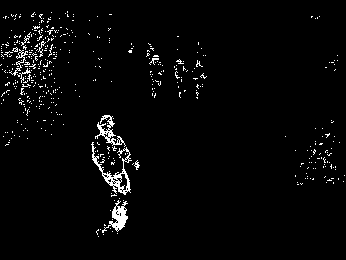person: (91, 114, 139, 233), (150, 55, 164, 97), (174, 58, 188, 99), (193, 61, 207, 100)
